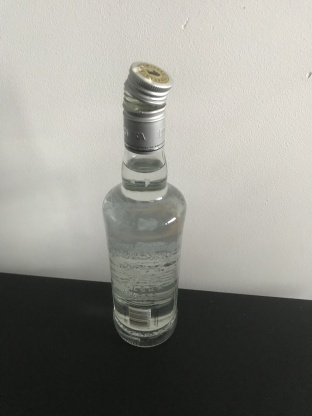nakretka: (121, 59, 174, 155)
